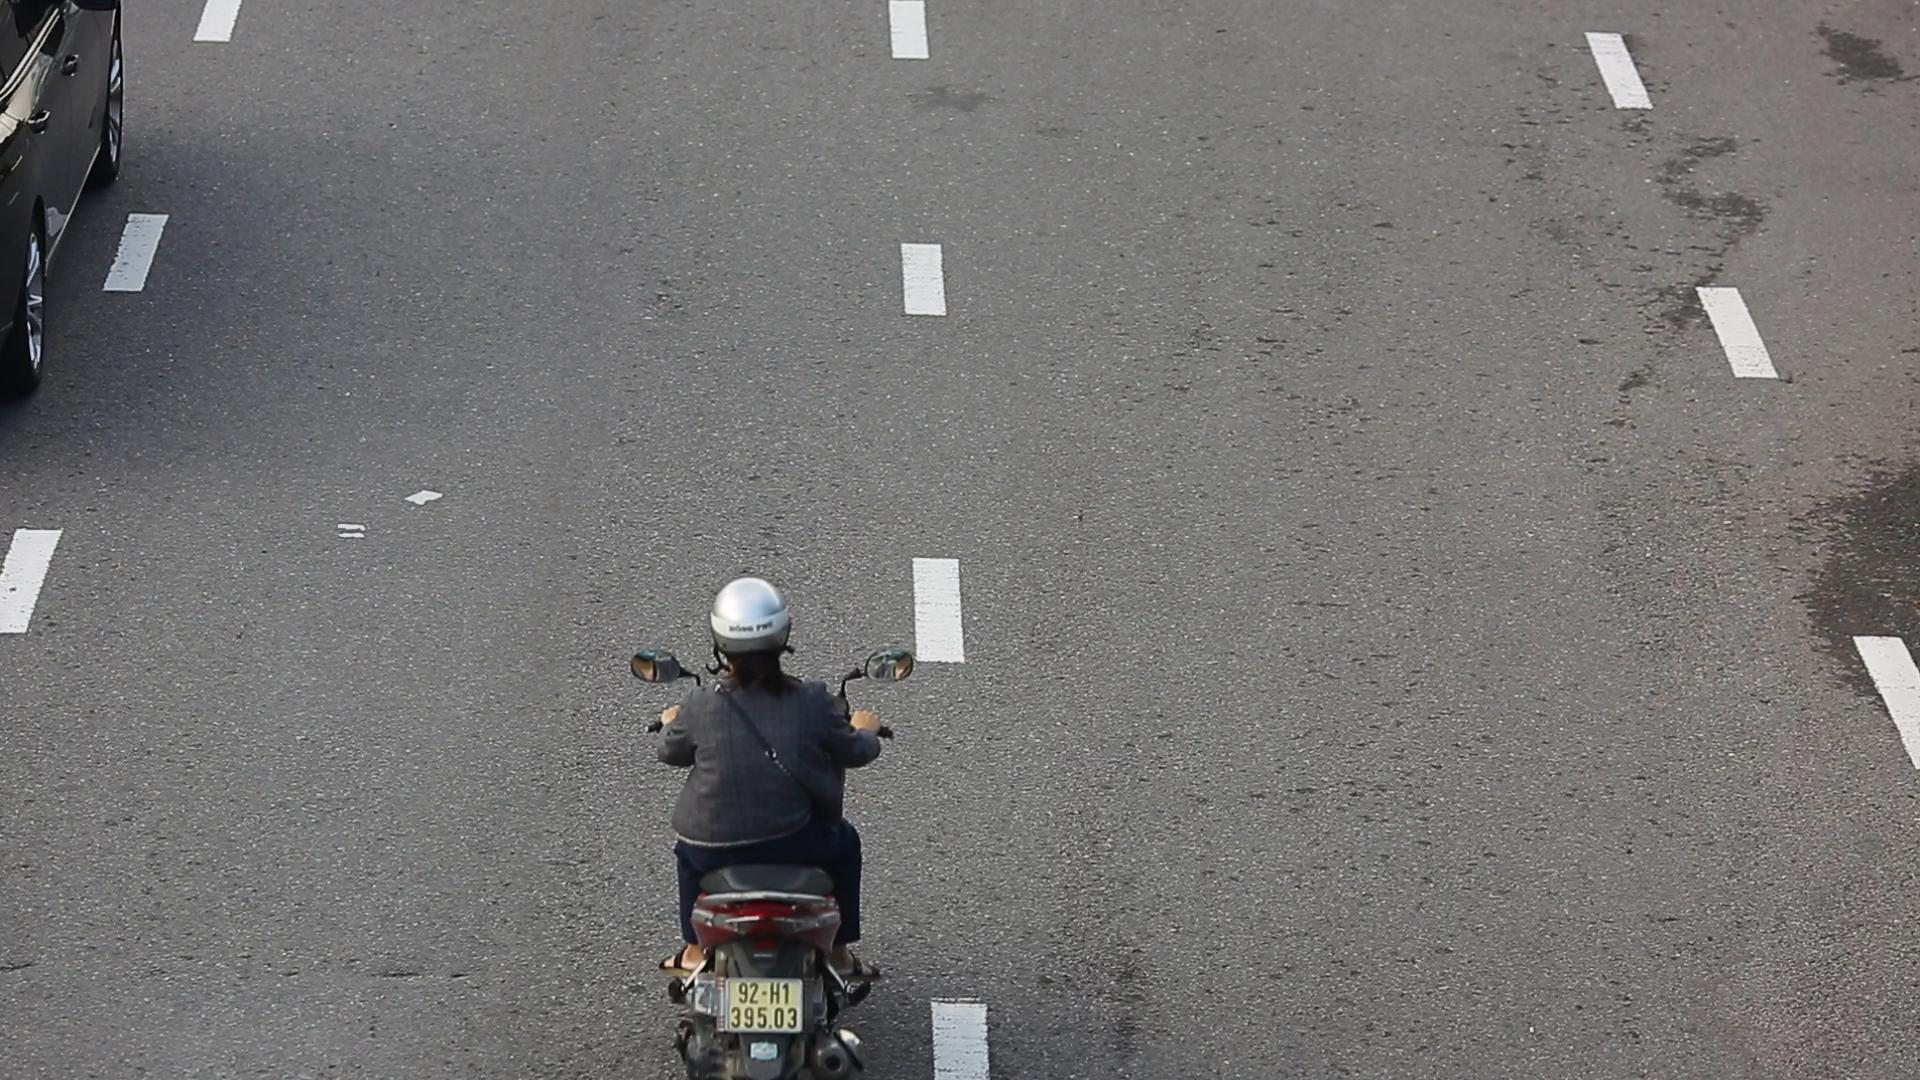motobike: (629, 568, 916, 1080)
